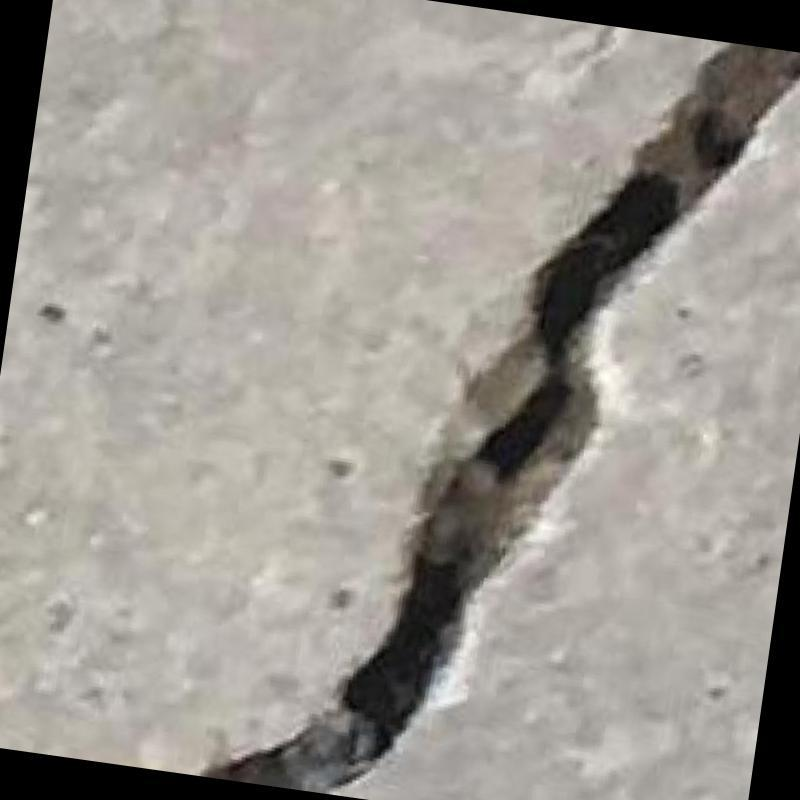crack: (205, 42, 800, 791)
